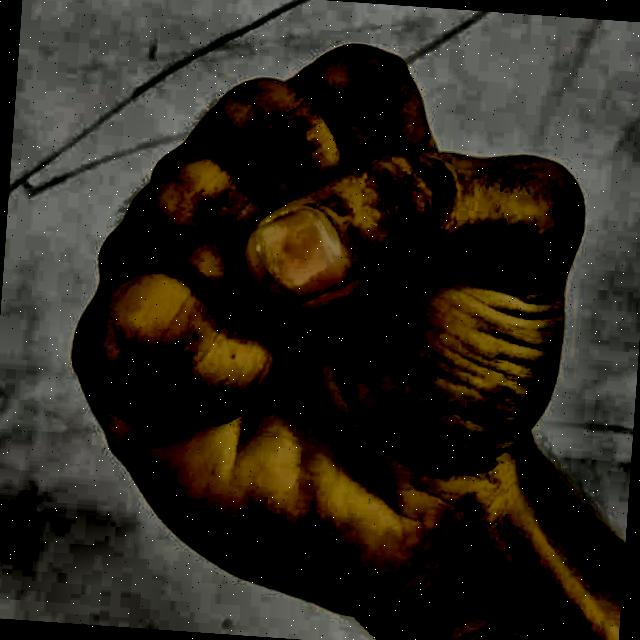Sha: (30, 3, 606, 640)
